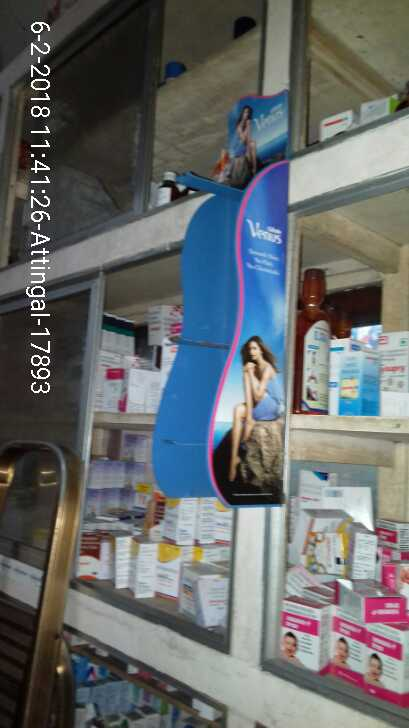reject: (94, 288, 175, 402)
